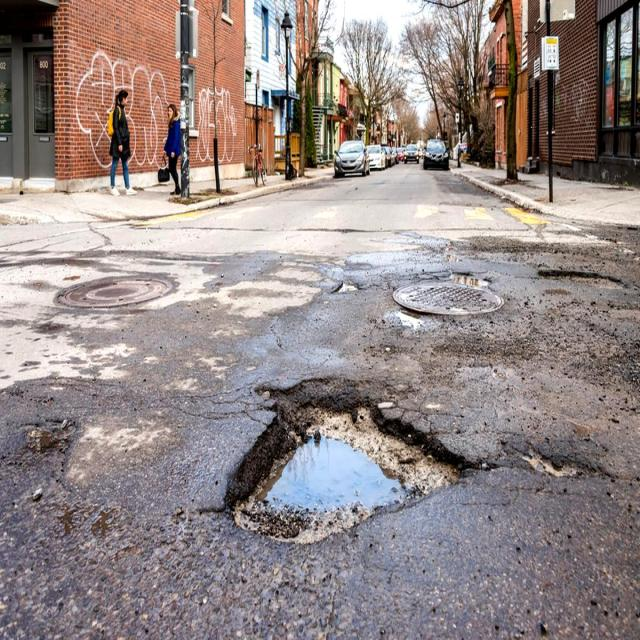pothole: (225, 376, 448, 554), (25, 410, 78, 470), (535, 265, 622, 298), (521, 444, 585, 484), (443, 268, 495, 290), (325, 275, 362, 299)
